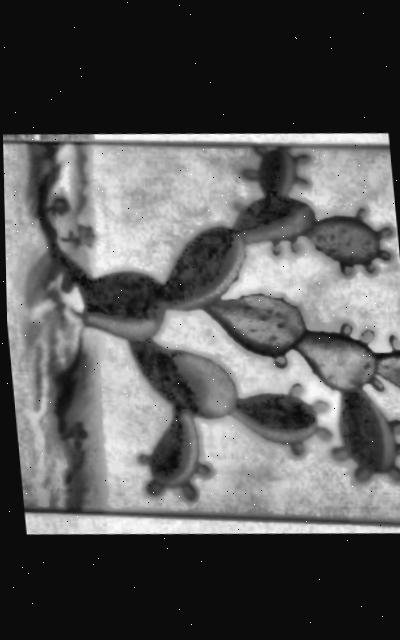El Nopal: (2, 136, 400, 522)
